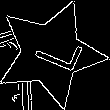L_NW: (21, 29, 81, 78)
